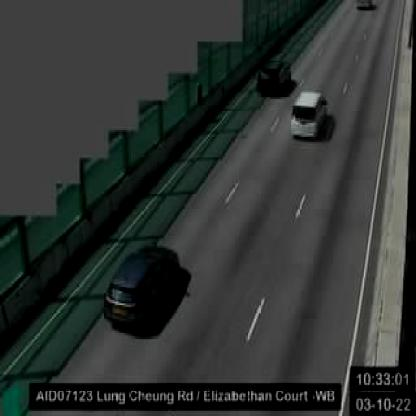Car: (102, 243, 180, 322), (290, 90, 326, 137), (256, 59, 290, 94)
